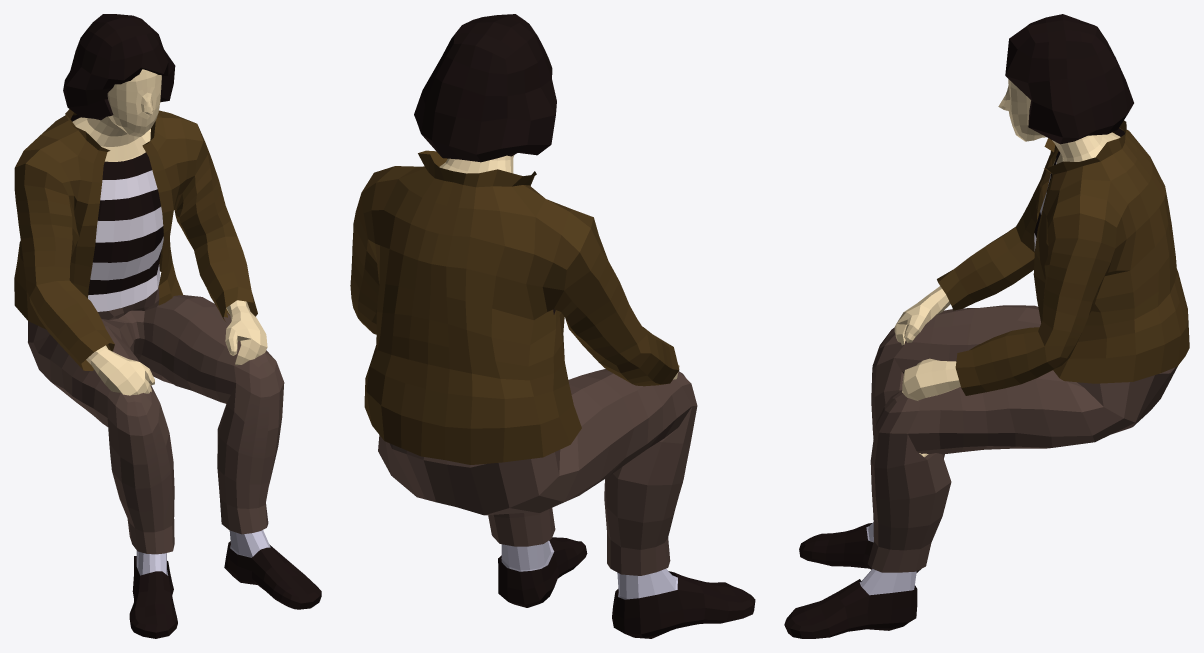
The model's file is 70s kid sitting.fbx.
The picture shows the model from 3 angles, left to right: view 1: azimuth 30°, elevation 25°; view 2: azimuth 150°, elevation 25°; view 3: azimuth 270°, elevation 25°; orthographic projection. The views are drawn at different scales.
Parts seen in each view (by area): view 1: 70s Kid sitting; view 2: 70s Kid sitting; view 3: 70s Kid sitting.
Part boxes in pixels (x1=…): 70s Kid sitting: x1=14, y1=14, x2=321, y2=638; 70s Kid sitting: x1=350, y1=14, x2=755, y2=638; 70s Kid sitting: x1=784, y1=14, x2=1189, y2=638.
Size of the model in its own units: 56.19 by 128 by 81.25.
